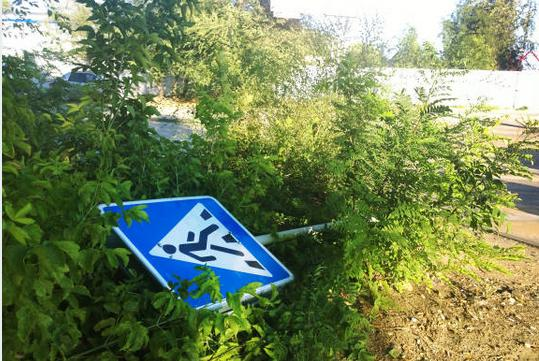obstructed_road_sign: (98, 195, 296, 313)
